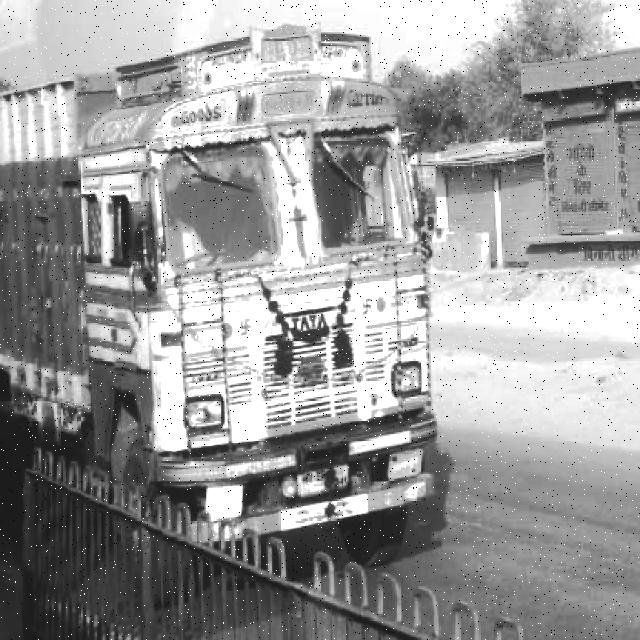HCV: (2, 45, 436, 580)
